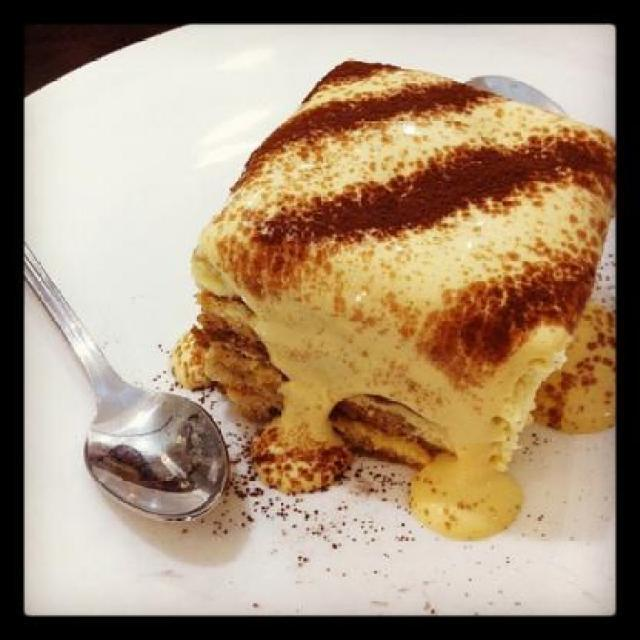Tiramisu: (228, 30, 586, 512)
